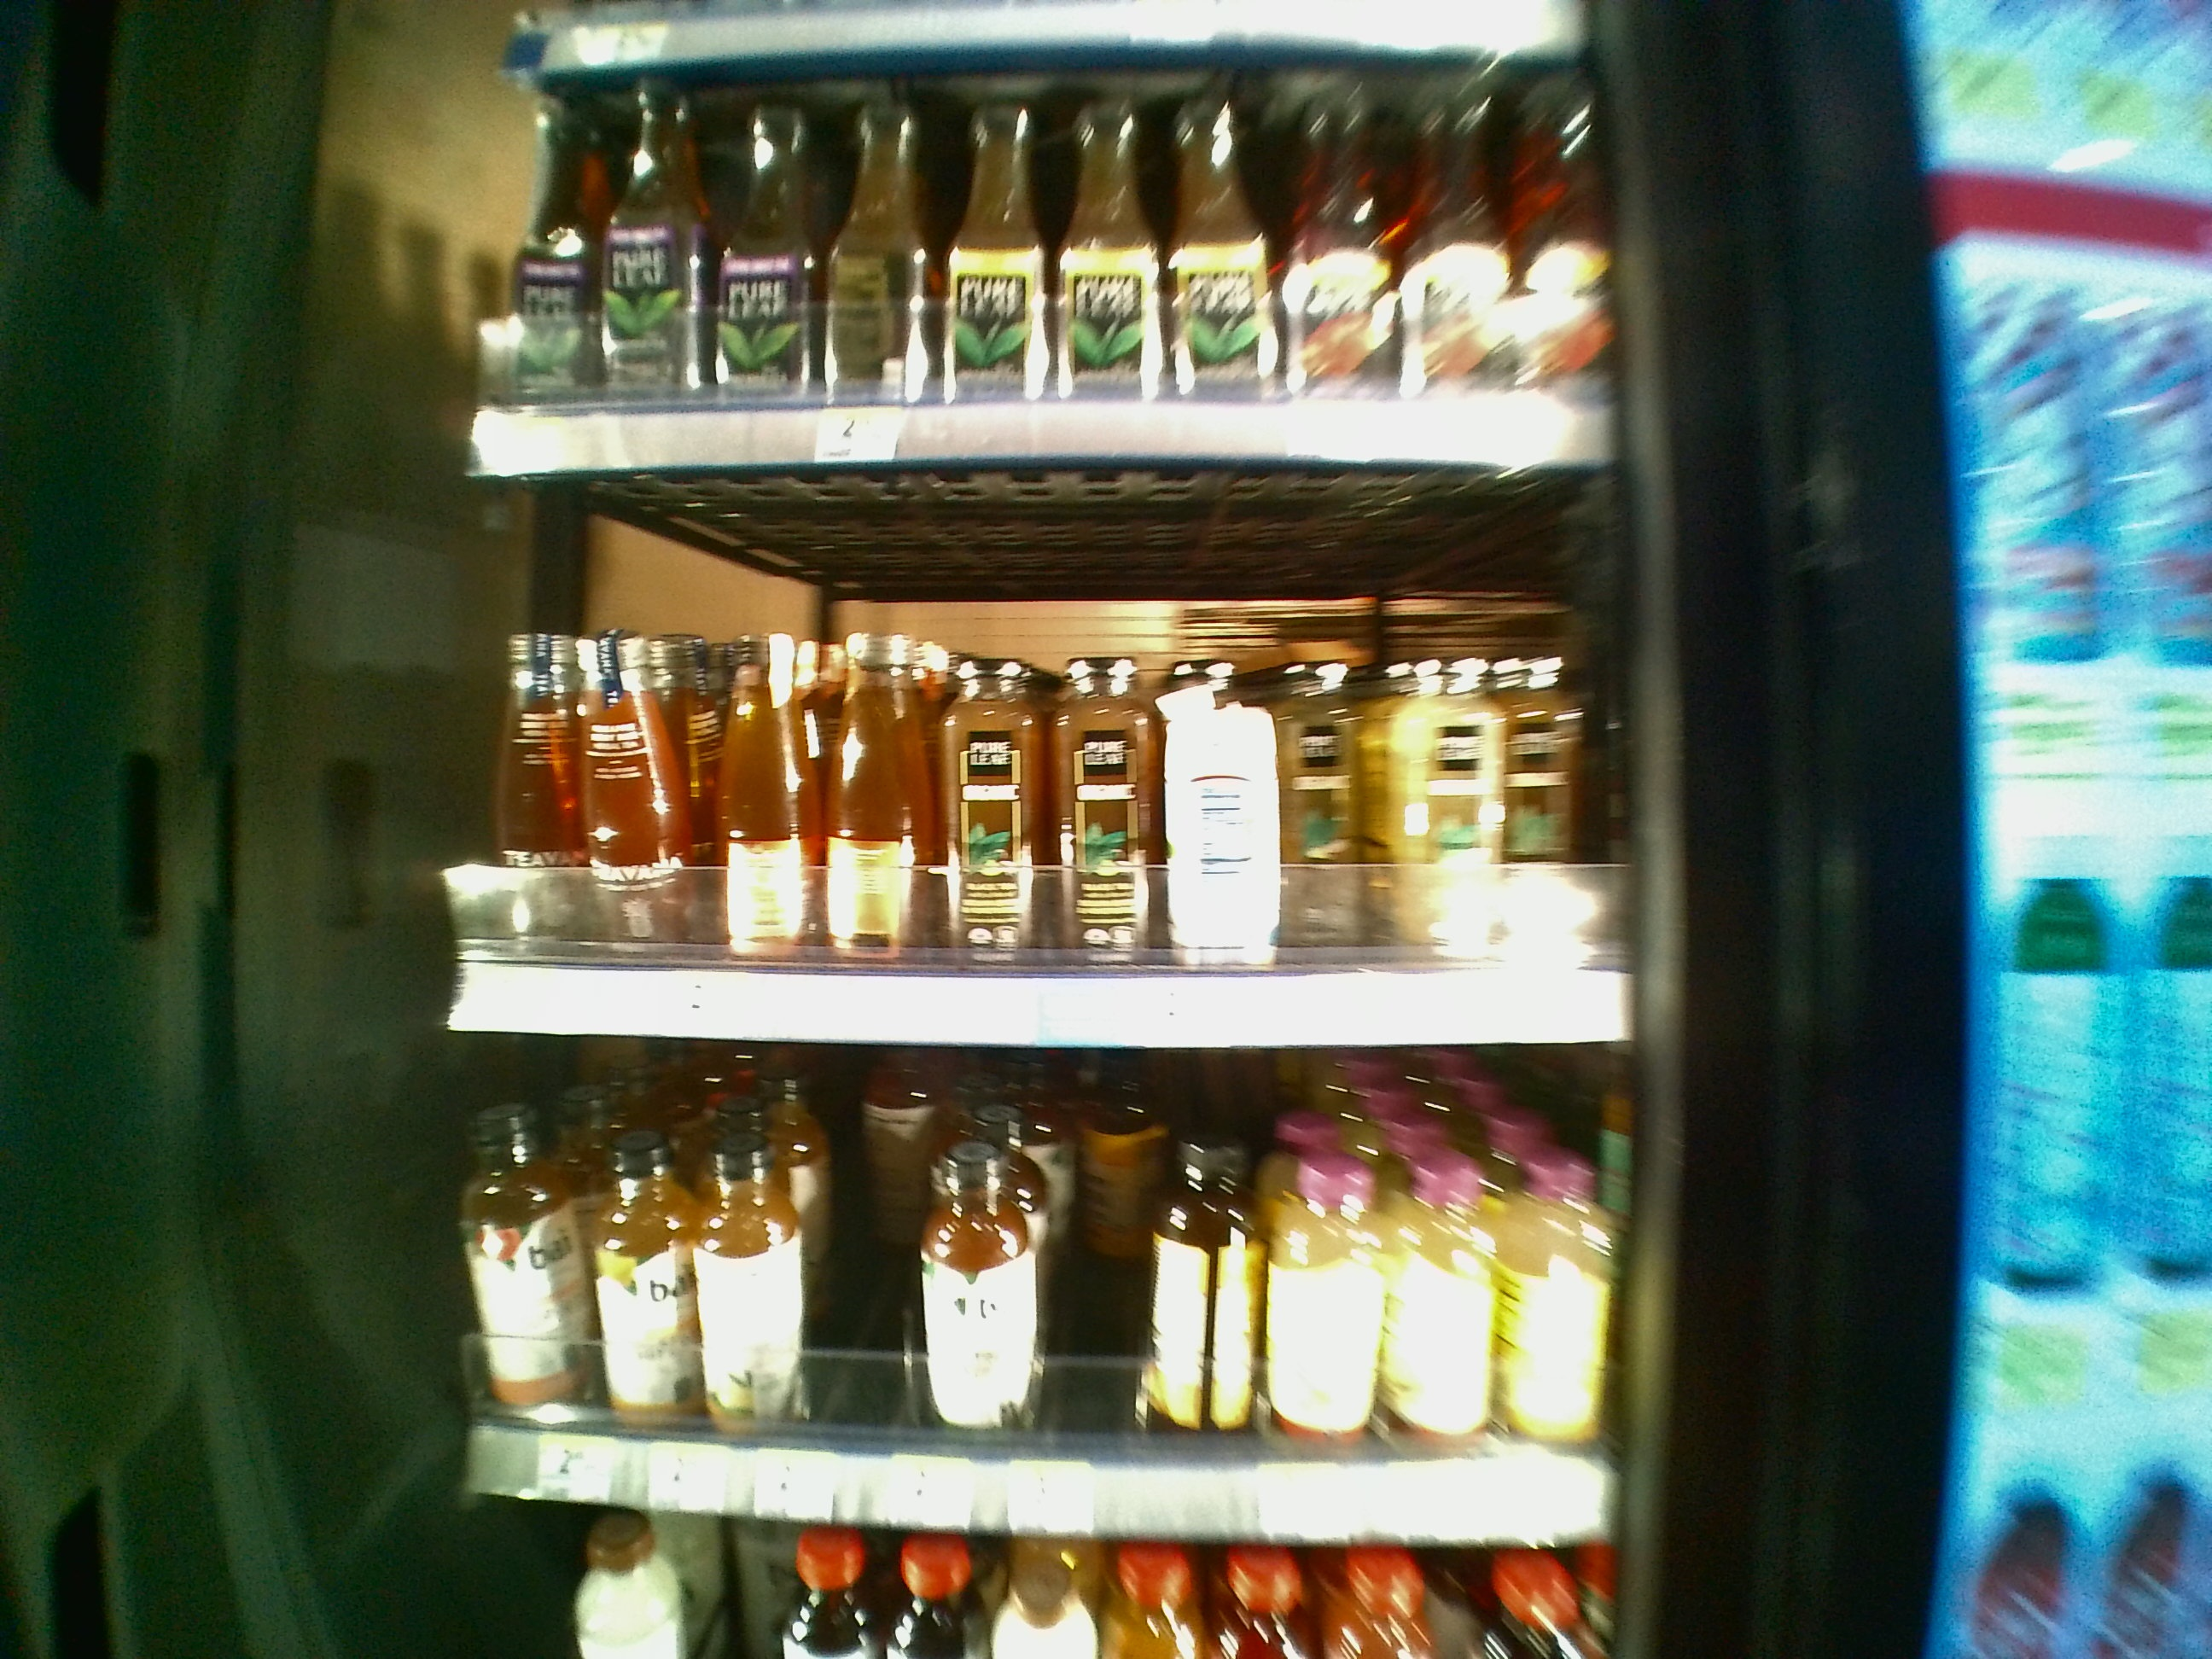shelf: (449, 486, 1635, 1044), (434, 1049, 1649, 1539), (465, 71, 1616, 476)
